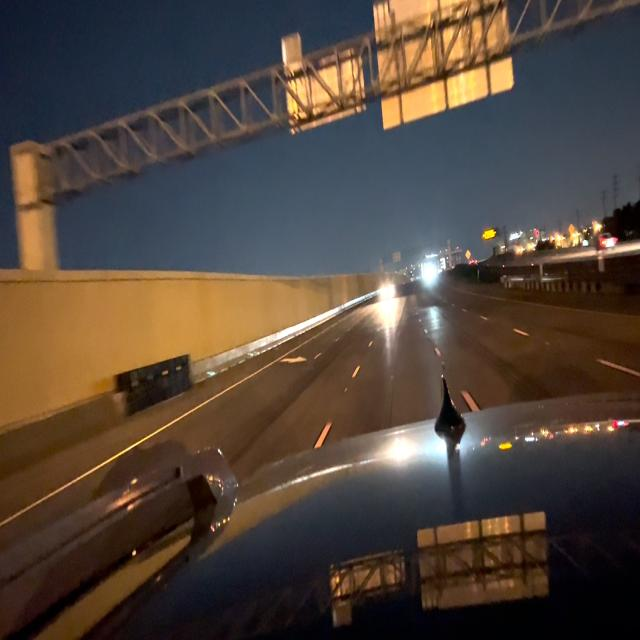back-of-sign: (373, 0, 516, 135), (287, 46, 366, 134), (283, 34, 302, 63)
